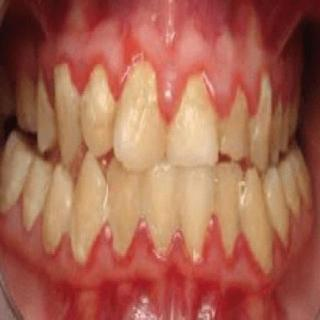LL1BC_healthy: (264, 168, 291, 250)
LL1M_healthy: (288, 148, 313, 206)
LL2BC_healthy: (279, 159, 302, 218)
LLCI_healthy: (176, 167, 212, 260)
LLC_healthy: (242, 168, 274, 267)
LLLI_healthy: (215, 163, 243, 253)
LR1BC_healthy: (42, 165, 71, 251)
LR1M_healthy: (1, 142, 33, 209)
LR2BC_healthy: (21, 159, 51, 230)
LRCI_healthy: (141, 166, 176, 252)
LRC_healthy: (72, 160, 107, 256)
LRLI_healthy: (107, 162, 140, 251)
UL1BC_healthy: (273, 98, 282, 162)
ULCI_healthy: (168, 74, 220, 165)
ULC_healthy: (251, 74, 272, 167)
ULLI_healthy: (220, 86, 250, 160)
UR1BC_healthy: (36, 68, 57, 153)
UR2BC_healthy: (16, 74, 37, 132)
URCI_healthy: (113, 61, 166, 171)
URC_healthy: (52, 64, 82, 161)
URLI_healthy: (80, 65, 114, 156)
